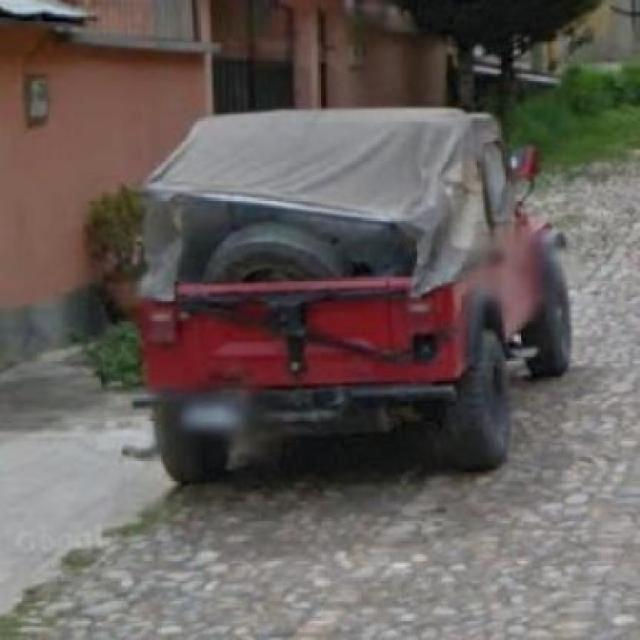car: (133, 98, 578, 470)
